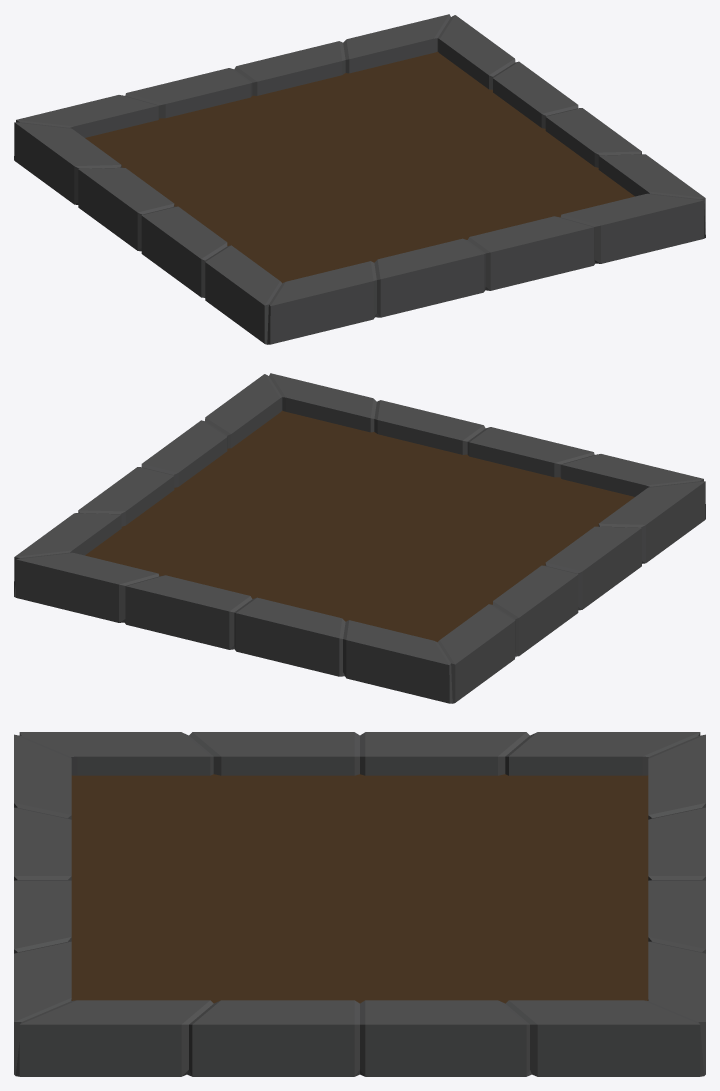
File: TreeBase.fbx
The picture shows the model from 3 angles, top to bottom: view 1: azimuth 30°, elevation 25°; view 2: azimuth 150°, elevation 25°; view 3: azimuth 270°, elevation 25°; orthographic projection. The views are drawn at different scales.
Visible parts, largest first — view 1: TreeBase; view 2: TreeBase; view 3: TreeBase.
Boxes of the visible parts, x1,y1,x2,y2 form: TreeBase: (14,14,705,344); TreeBase: (14,373,705,703); TreeBase: (14,732,705,1076).
Bounding box in the file's own units: 60 × 5 × 60.
